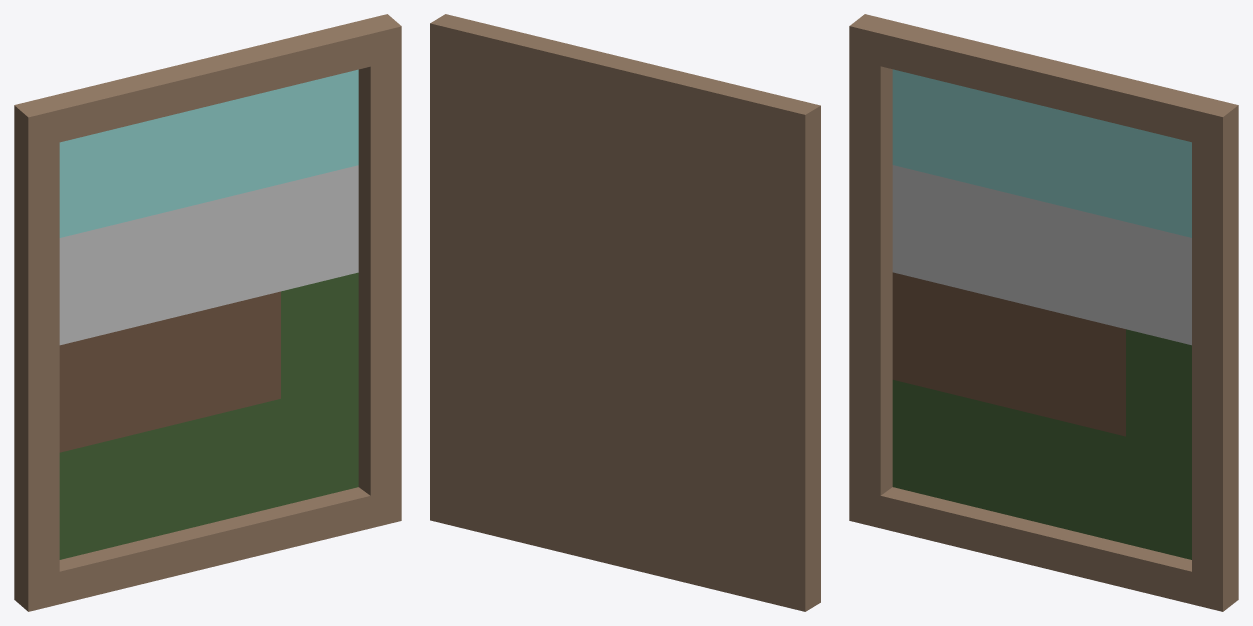
File: Painting.fbx
3 views of the same model, side by side, from view 1: azimuth 30°, elevation 25°; view 2: azimuth 150°, elevation 25°; view 3: azimuth 330°, elevation 25° (orthographic).
Parts seen in each view (by area): view 1: Painting; view 2: Painting; view 3: Painting.
Part boxes in pixels (bbox=[...]): Painting: bbox=[14, 14, 401, 611]; Painting: bbox=[430, 14, 820, 611]; Painting: bbox=[849, 14, 1238, 611].
Size of the model in its own units: 266 by 337 by 18.26.
